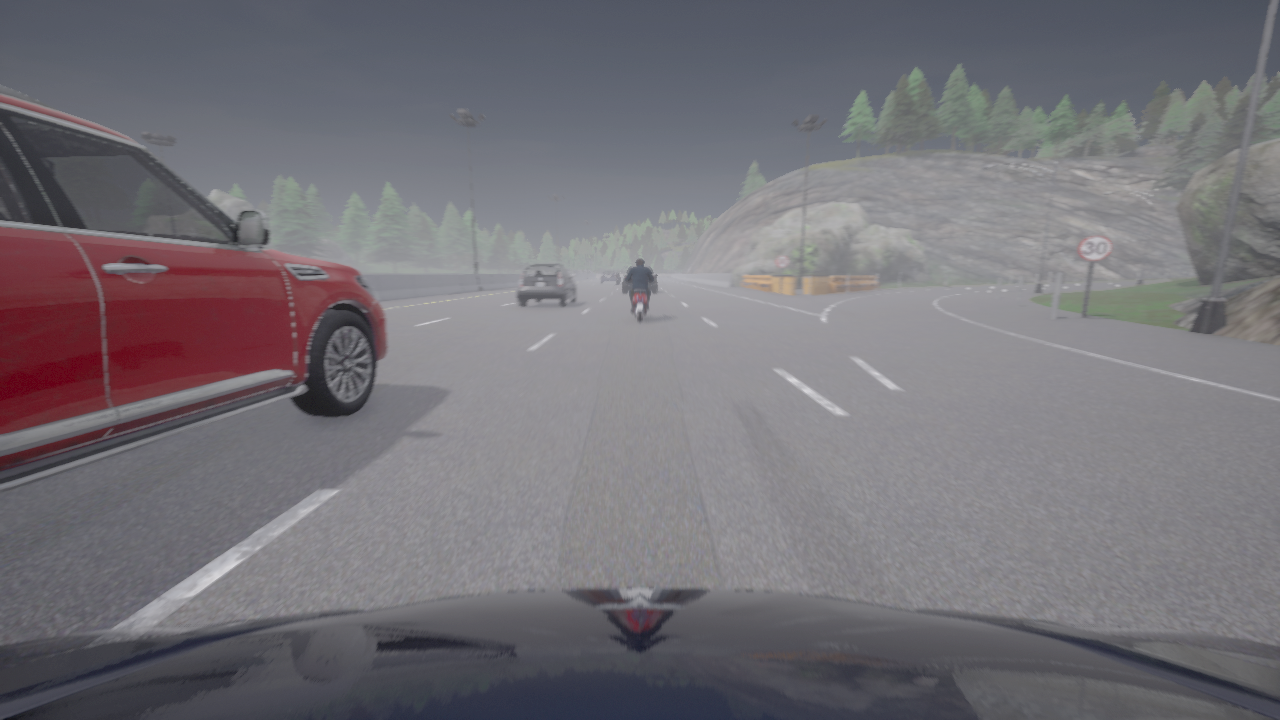cyclist: (0, 588, 1279, 719), (517, 263, 576, 306), (624, 272, 655, 321), (623, 266, 656, 292), (600, 269, 618, 283)
